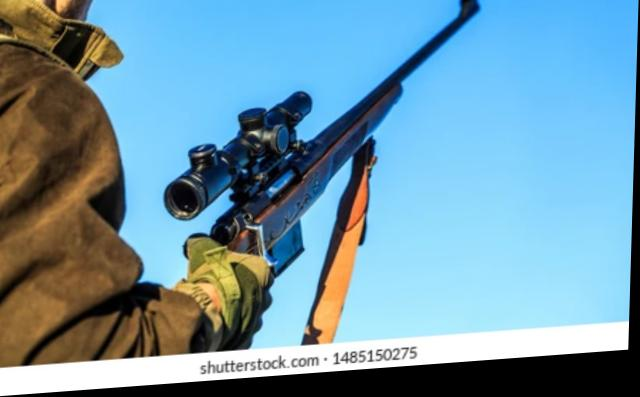other: (0, 0, 276, 367)
